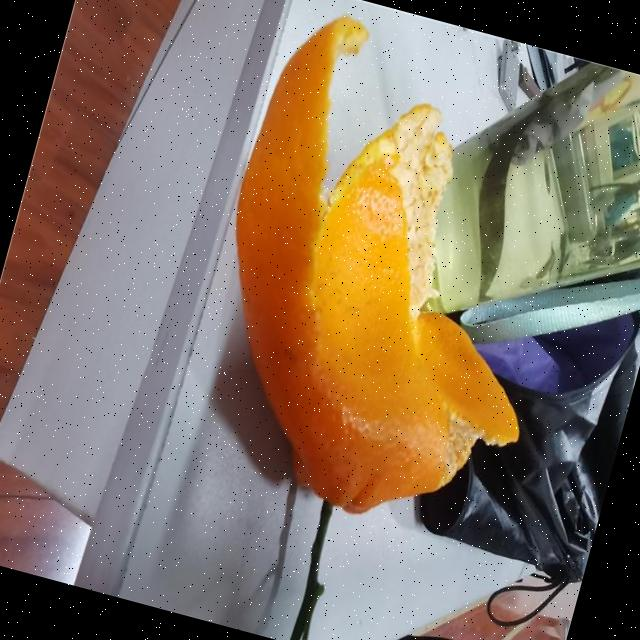orange-peel: (164, 0, 613, 549)
